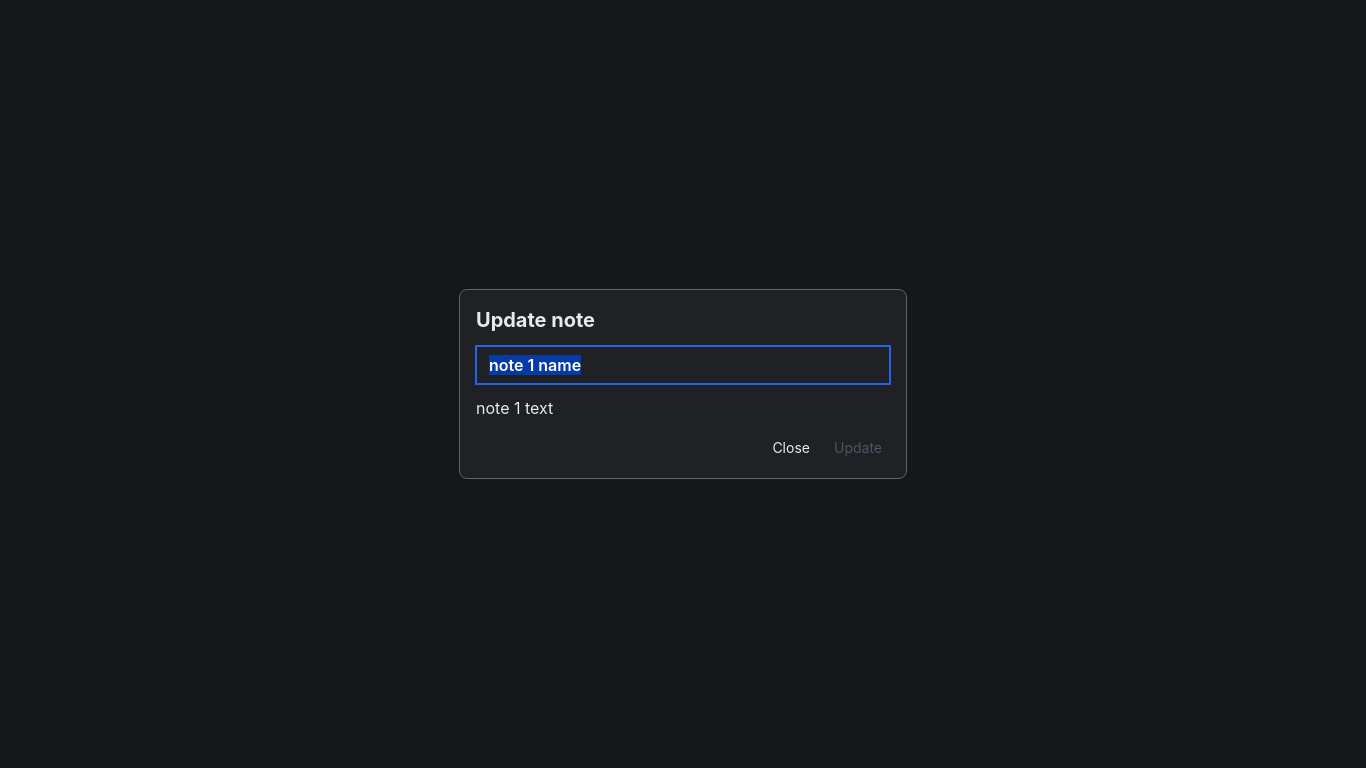
Test: UpdateNote › should enable update button if text input has changed
In the text box showing "note 1 text": (683, 408) [476, 396, 890, 420], type "update"
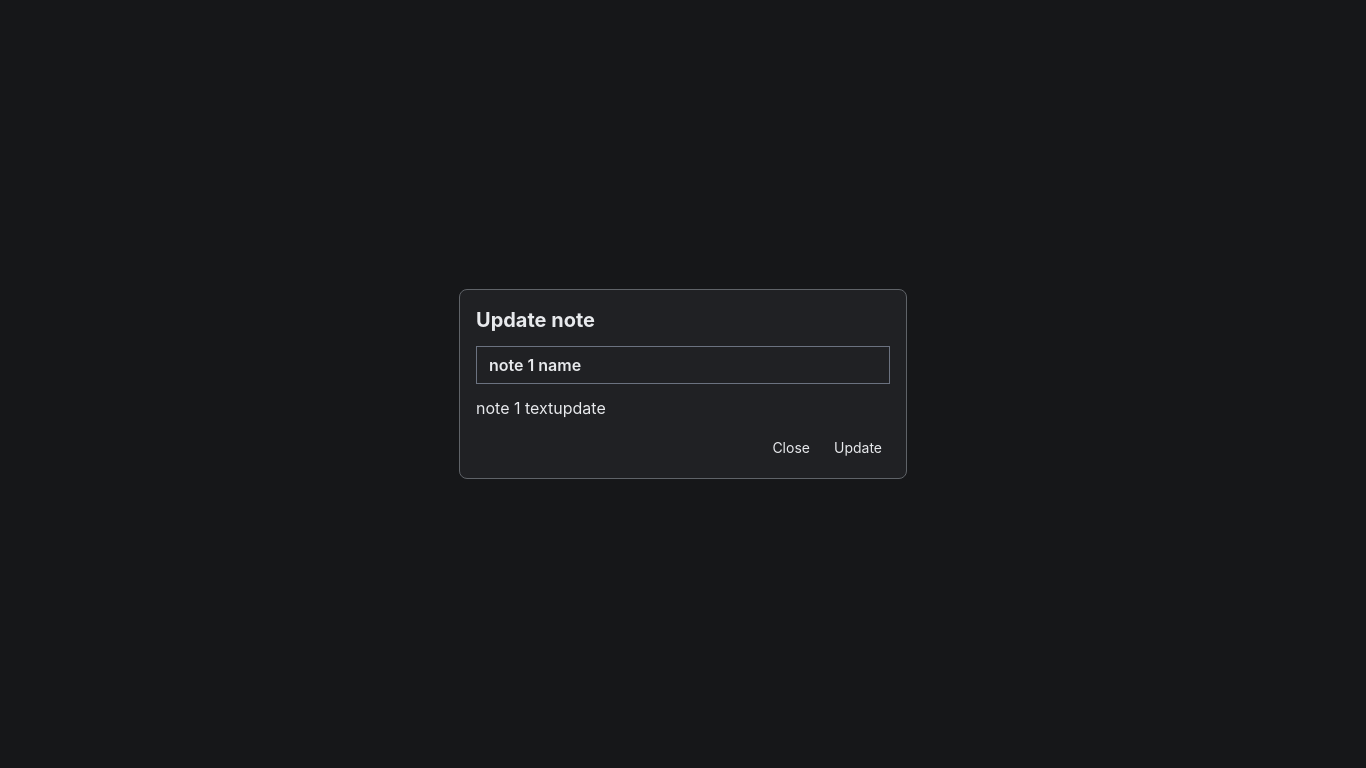
Expected: the button with aria-label "update note" is enabled, [826, 434, 890, 462]
